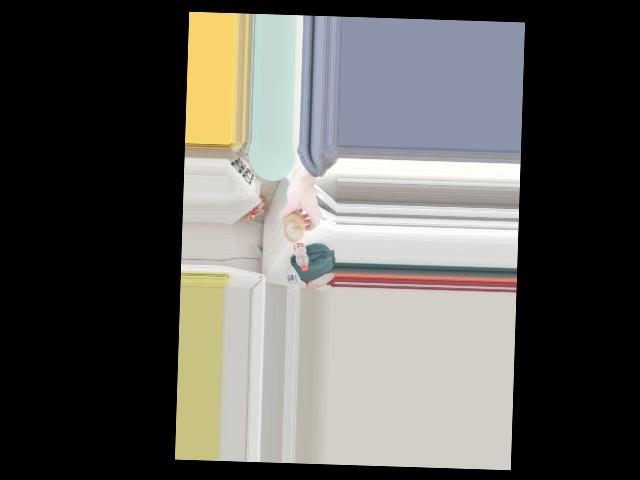sweet_potato: (280, 204, 311, 242)
